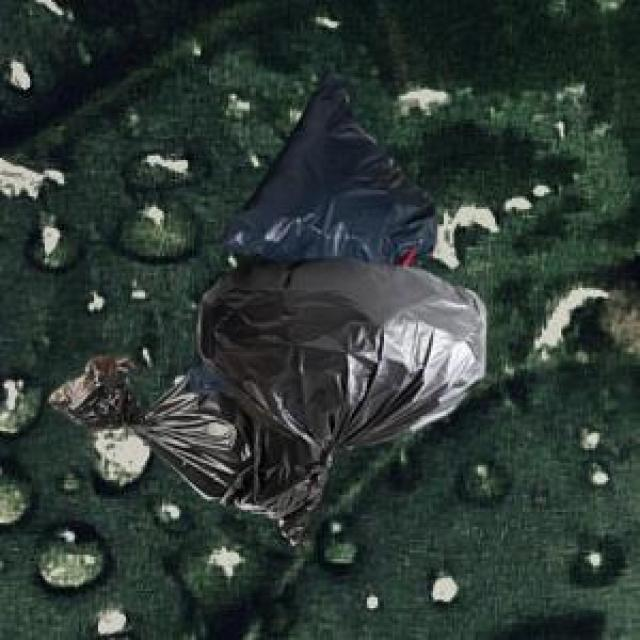Vinyl: (140, 75, 486, 537)
